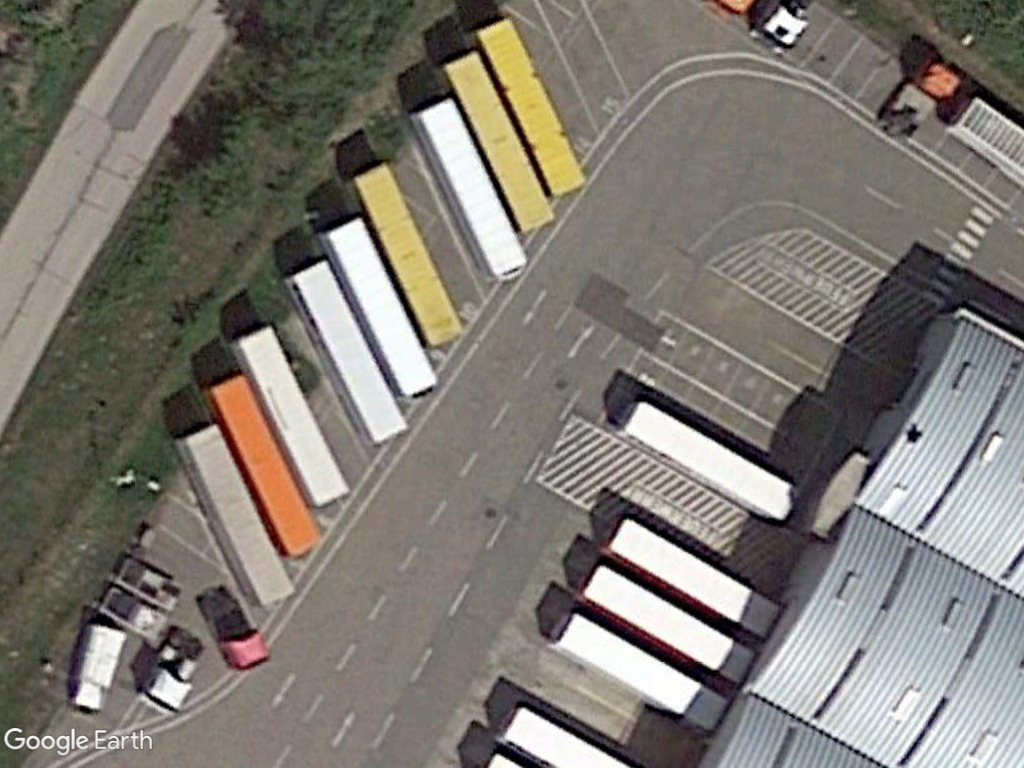longvehicle: (167, 415, 300, 617), (314, 202, 443, 405), (406, 93, 536, 290), (230, 317, 360, 513), (286, 254, 411, 454), (614, 398, 802, 530), (201, 365, 325, 564), (346, 151, 466, 353), (565, 558, 756, 684), (543, 605, 731, 732), (601, 516, 783, 642), (442, 47, 560, 238), (472, 11, 587, 201)
